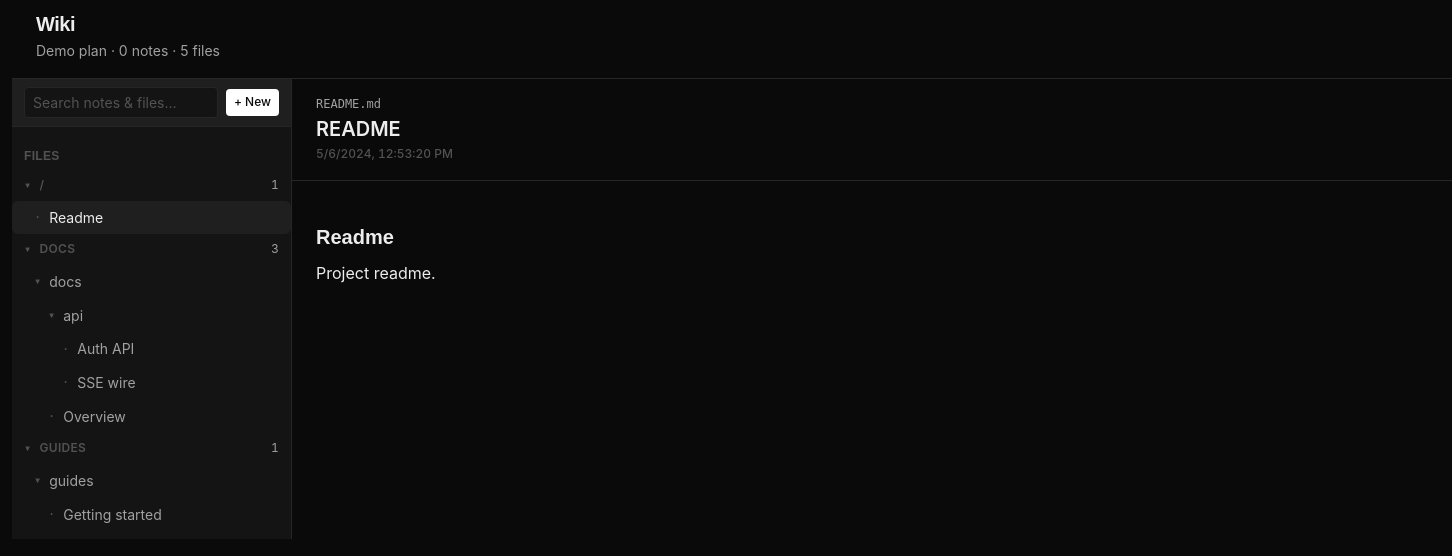
Test case: WikiView (path-based tree, multi wiki_root) › switches the reader when another file row is clicked
Click the button with test id "wiki-file-row" at point(95, 416), box [12,400,291,433]
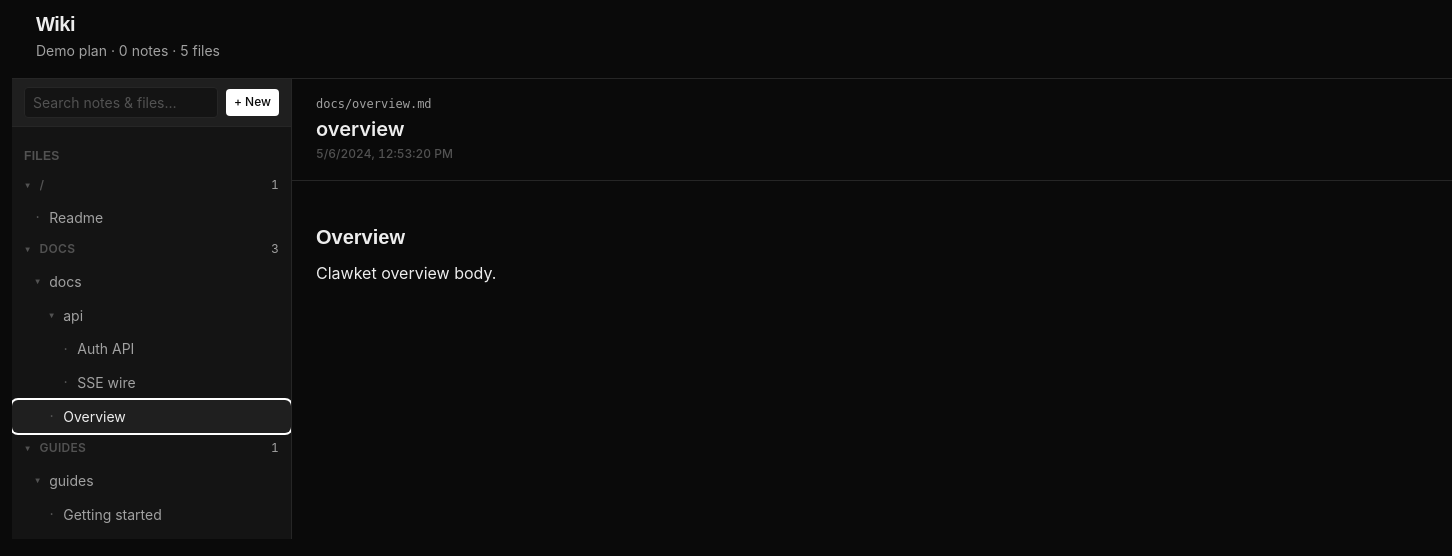
Check: the text "Clawket overview body." is shown, box [316,263,496,283]
